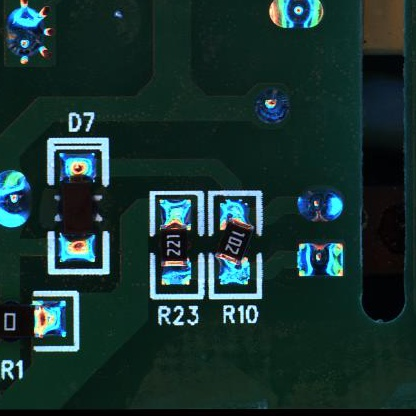spot: (4, 1, 55, 68), (1, 167, 34, 228), (294, 242, 347, 279), (297, 186, 344, 224), (267, 1, 325, 30), (255, 86, 291, 126)
